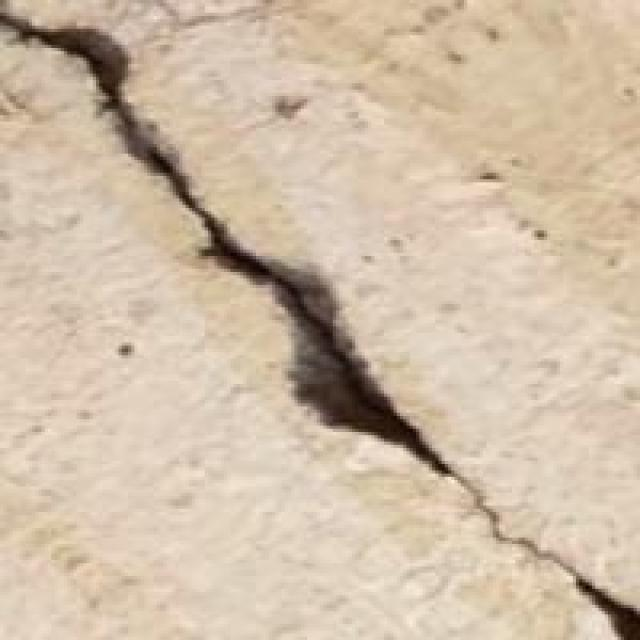Crack: (0, 0, 541, 547)
